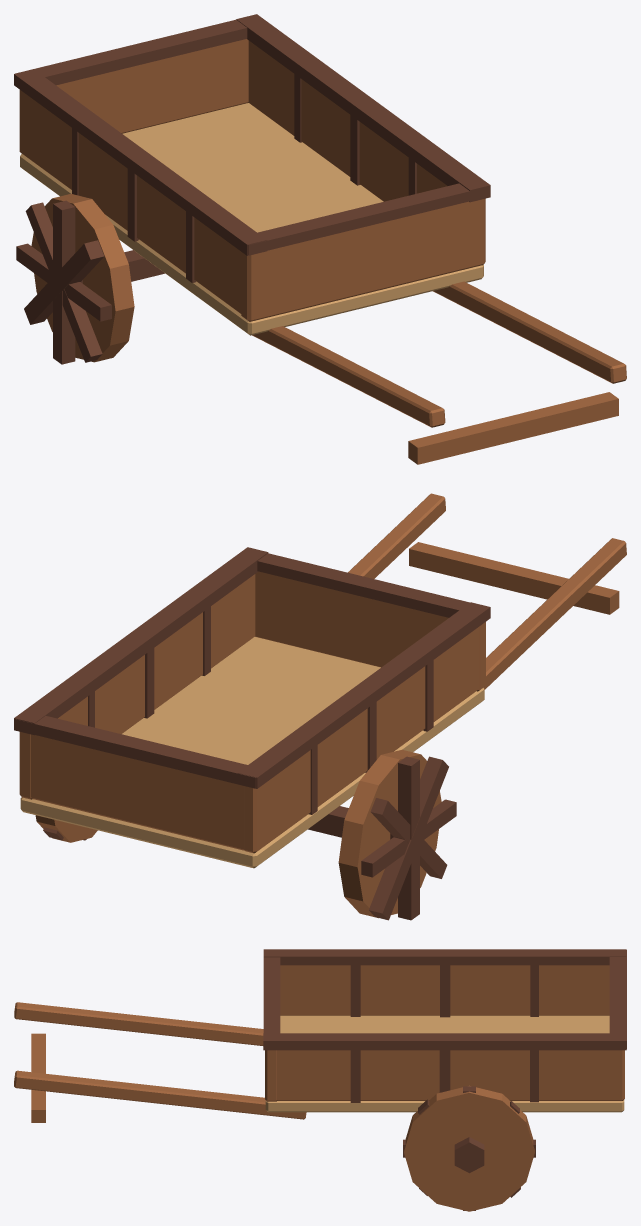
File: Cart_Empty.fbx
The picture shows the model from 3 angles, top to bottom: view 1: azimuth 30°, elevation 25°; view 2: azimuth 150°, elevation 25°; view 3: azimuth 270°, elevation 25°; orthographic projection. The views are drawn at different scales.
Visible parts, largest first — view 1: Cart_Empty; view 2: Cart_Empty; view 3: Cart_Empty.
Boxes of the visible parts, x1,y1,x2,y2 form: Cart_Empty: (14, 14, 626, 464); Cart_Empty: (14, 493, 626, 920); Cart_Empty: (14, 949, 626, 1211).
Size of the model in its own units: 1.97 by 1.05 by 3.77.
